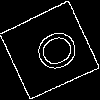O: (24, 25, 82, 80)
